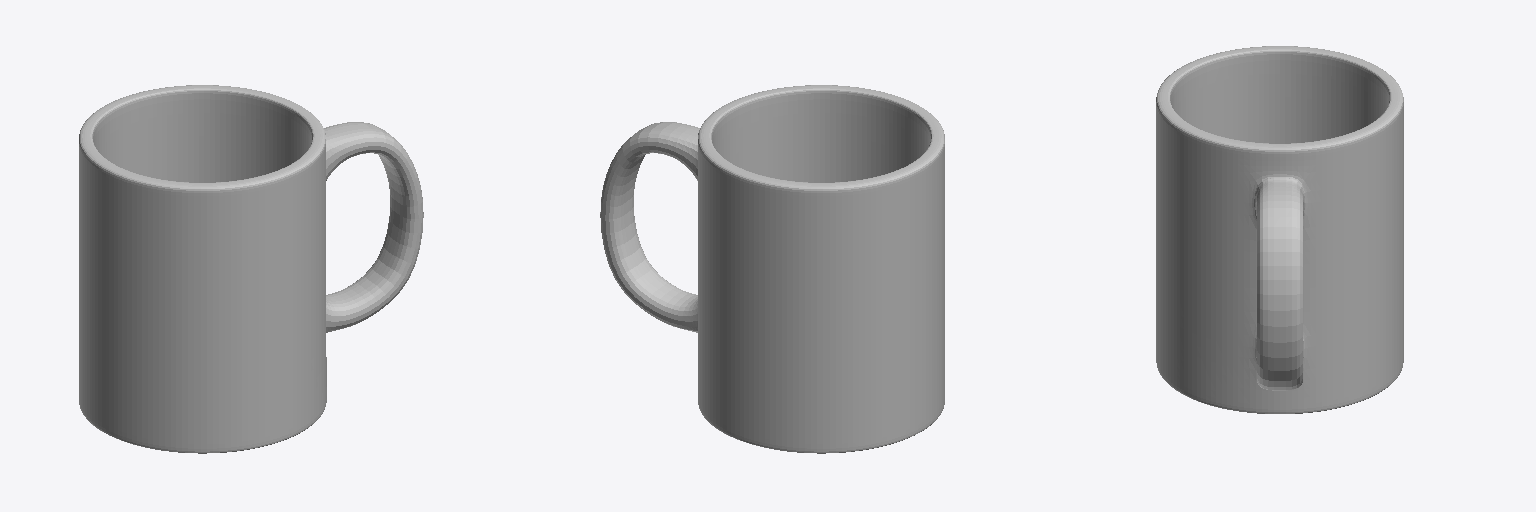
Rendered from mug.obj.
3 views of the same model, side by side, from view 1: azimuth 30°, elevation 25°; view 2: azimuth 150°, elevation 25°; view 3: azimuth 270°, elevation 25° (orthographic).
Parts seen in each view (by area): view 1: Mug_Cylinder.002; view 2: Mug_Cylinder.002; view 3: Mug_Cylinder.002.
Boxes of the visible parts, box(x1,y1,x2,y2) form: Mug_Cylinder.002: box(79, 85, 423, 453); Mug_Cylinder.002: box(600, 85, 944, 453); Mug_Cylinder.002: box(1156, 46, 1403, 413).
Bounding box in the file's own units: 0.1895 × 0.1502 × 0.1265.